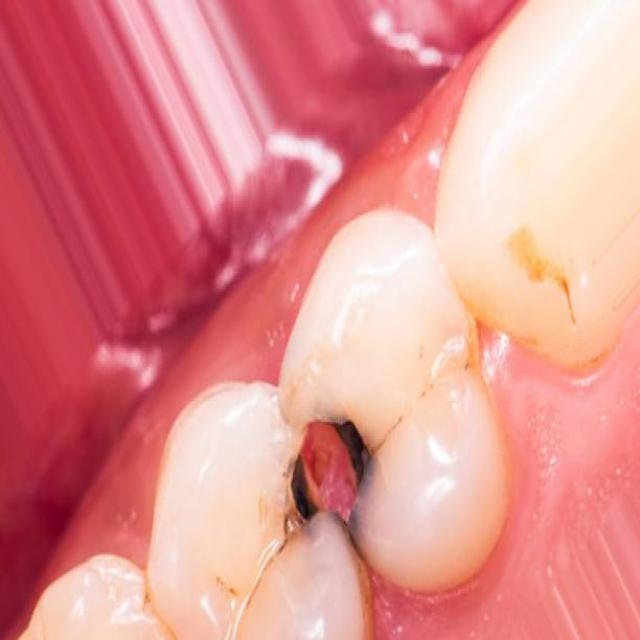caries: (255, 374, 402, 577), (501, 200, 588, 338)
